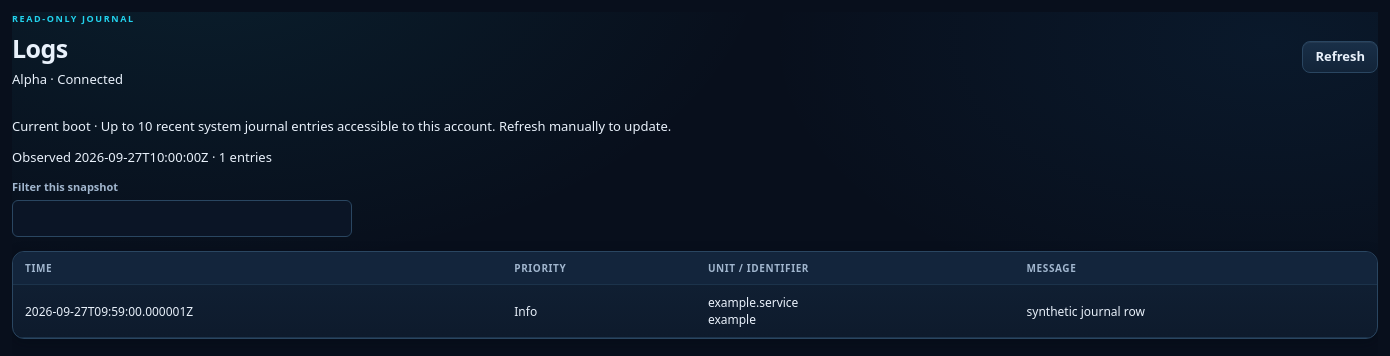
session-owned Logs snapshot › refreshes exactly once despite repeated clicks and replaces the snapshot
The width and height of the screenshot is (1390, 356).
Later steps or results of the test are not shown.
Check: the text "synthetic journal row" is shown, box [1014,284,1377,338]
Click the button "Refresh" at point(1340, 56), box [1302,40,1378,72]
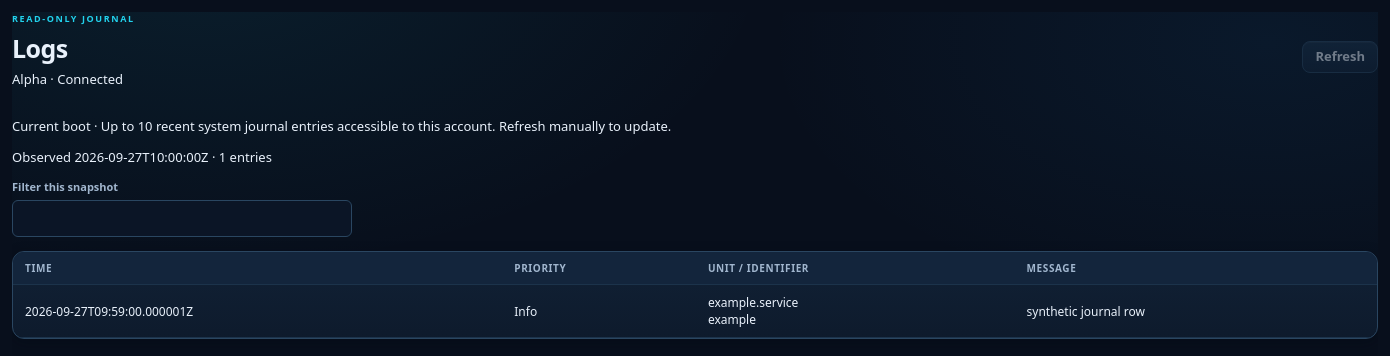
Click the button "Refresh" at point(1340, 56), box [1302,40,1378,72]
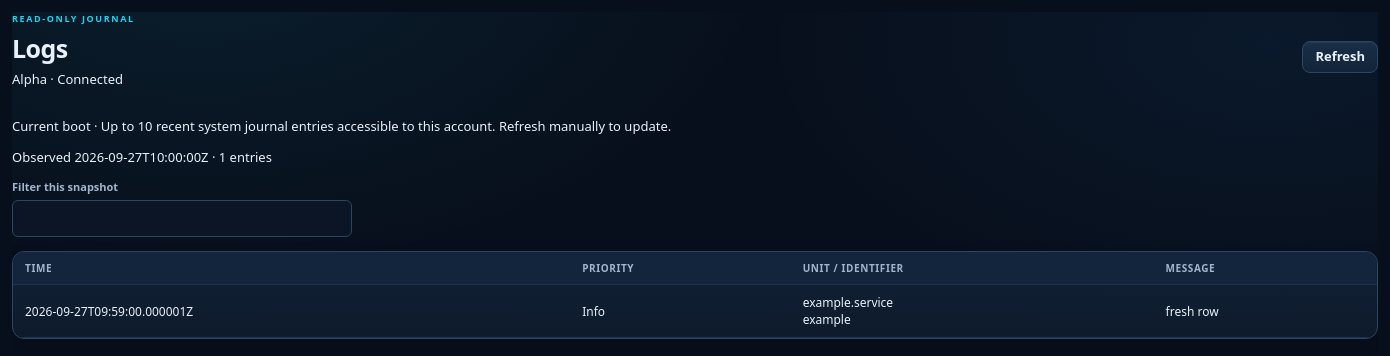
Check: the text "fresh row" is shown, box [1154,284,1377,338]
Check: the text "synthetic journal row" is gone
Check: the button "Refresh" is enabled, box [1302,40,1378,72]
